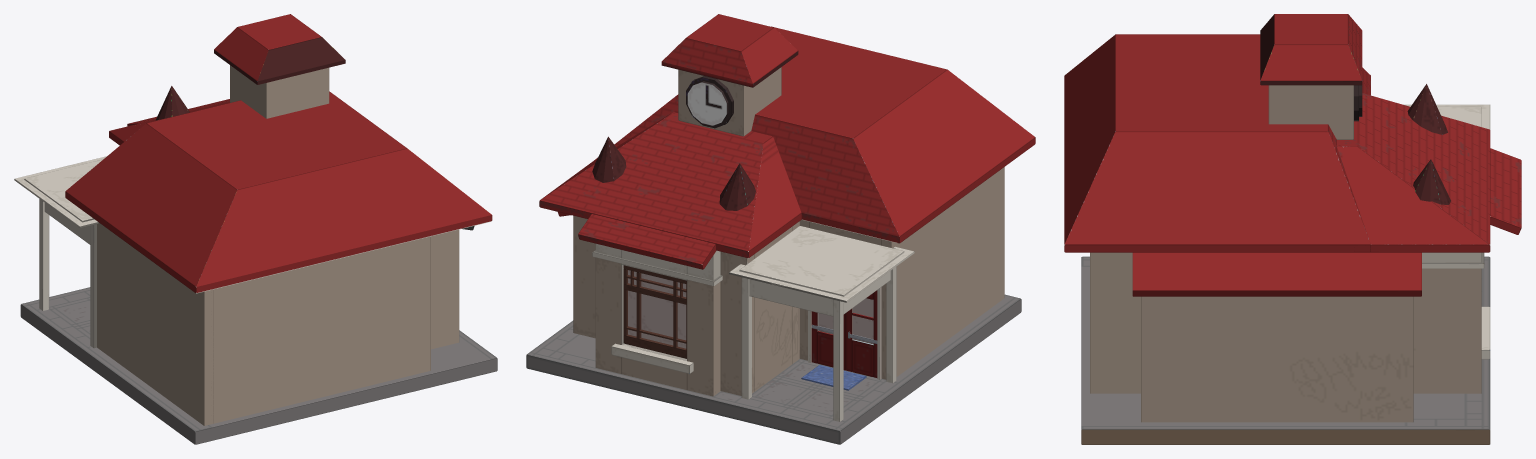
The model's file is Post_Office_Building.fbx.
3 views of the same model, side by side, from view 1: azimuth 30°, elevation 25°; view 2: azimuth 150°, elevation 25°; view 3: azimuth 270°, elevation 25° (orthographic). The views are drawn at different scales.
Parts seen in each view (by area): view 1: cuboid_18, cuboid_43, cuboid_8, Ground, cuboid_23, cuboid_20, cuboid_10, cuboid_17, cuboid, cuboid_5, cuboid_2, cone_1 (+2 smaller); view 2: cuboid_18, cuboid_19, Ground, cuboid_8, cuboid_17, cuboid_23, cuboid_42, cuboid_22, cuboid_6, cuboid_41, cuboid_11, cuboid_20 (+22 smaller); view 3: cuboid_18, cuboid_10, cuboid_19, Ground, cuboid_21, cuboid_41, cuboid_23, cuboid_43, cuboid_20, cuboid_22, cone_1, cone (+3 smaller).
Part boxes in pixels (bbox=[...]): cuboid_18: bbox=[65, 91, 492, 293]; cuboid_43: bbox=[211, 236, 430, 423]; cuboid_8: bbox=[97, 222, 213, 425]; Ground: bbox=[20, 287, 497, 444]; cuboid_23: bbox=[214, 14, 345, 84]; cuboid_20: bbox=[230, 65, 329, 118]; cuboid_10: bbox=[431, 229, 459, 349]; cuboid_17: bbox=[24, 159, 102, 222]; cuboid: bbox=[39, 199, 49, 310]; cuboid_5: bbox=[14, 156, 106, 227]; cuboid_2: bbox=[90, 224, 96, 348]; cone_1: bbox=[155, 86, 189, 120]; cuboid_18: bbox=[594, 26, 1035, 243]; cuboid_19: bbox=[539, 112, 801, 258]; Ground: bbox=[526, 294, 1021, 444]; cuboid_8: bbox=[881, 167, 1004, 379]; cuboid_17: bbox=[739, 226, 904, 296]; cuboid_23: bbox=[661, 14, 798, 87]; cuboid_42: bbox=[687, 250, 720, 396]; cuboid_22: bbox=[578, 214, 716, 269]; cuboid_6: bbox=[720, 251, 754, 395]; cuboid_41: bbox=[595, 243, 623, 373]; cuboid_11: bbox=[754, 227, 792, 391]; cuboid_20: bbox=[678, 67, 781, 136]; cuboid_18: bbox=[1064, 34, 1370, 252]; cuboid_10: bbox=[1141, 296, 1413, 422]; cuboid_19: bbox=[1337, 93, 1490, 252]; Ground: bbox=[1081, 256, 1490, 444]; cuboid_21: bbox=[1132, 252, 1421, 296]; cuboid_41: bbox=[1413, 252, 1481, 393]; cuboid_23: bbox=[1260, 14, 1362, 85]; cuboid_43: bbox=[1090, 131, 1140, 393]; cuboid_20: bbox=[1268, 85, 1353, 139]; cuboid_22: bbox=[1490, 148, 1521, 234]; cone_1: bbox=[1407, 84, 1447, 134]; cone: bbox=[1413, 159, 1450, 204].
Bounding box in the file's own units: 306 × 281 × 336.
1 material, 1 textured.
